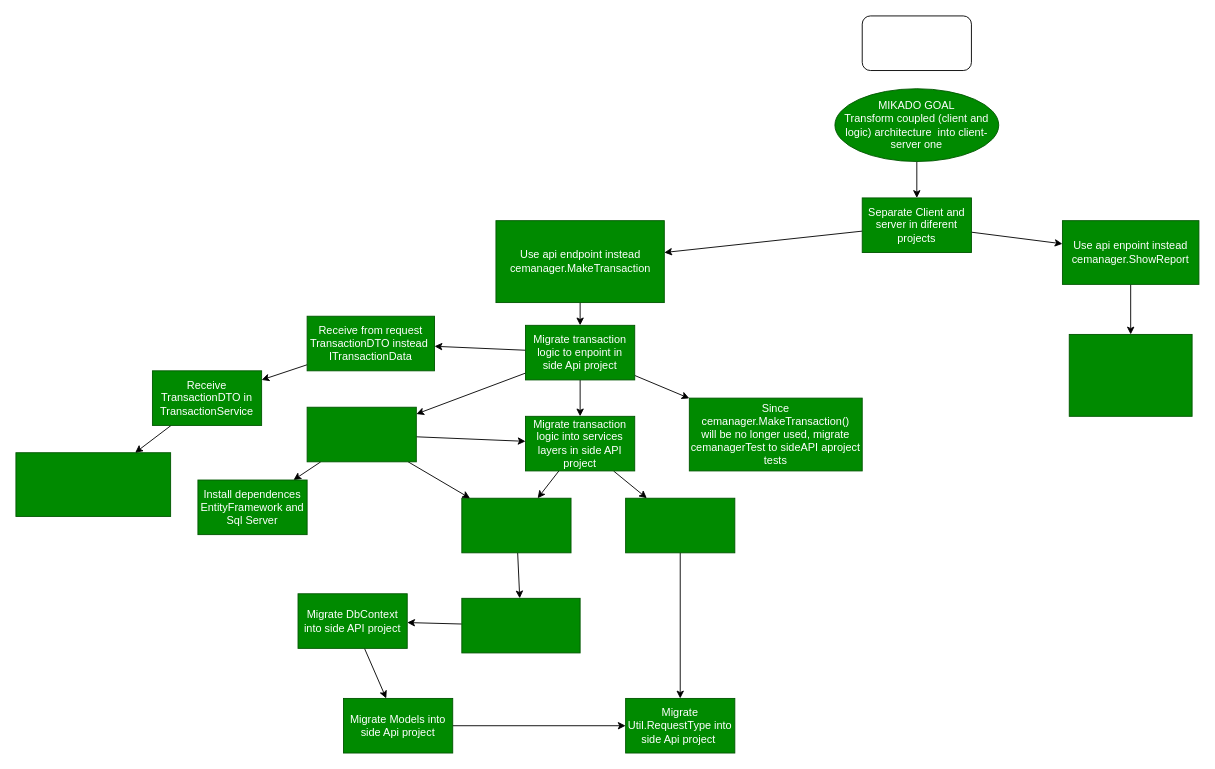
Some shapes in this 1215 by 769 pixel diagram are drawn without their labels. The shapes that lost their labels are listed below. From the top down, each one's centre as x and y in pixels, then its label:
point 916,43: DONE!!
point 1130,375: Migrate category search logic to enpoint in side API project
point 361,434: Configure web host and services
point 93,484: Create TransactionDTO because cannot pass ITransactionData in a request
point 516,525: Migrate DataAcces into side API project
point 680,525: Migrate ITransactionData to side API project
point 520,625: Migrate Repositories to side API project
